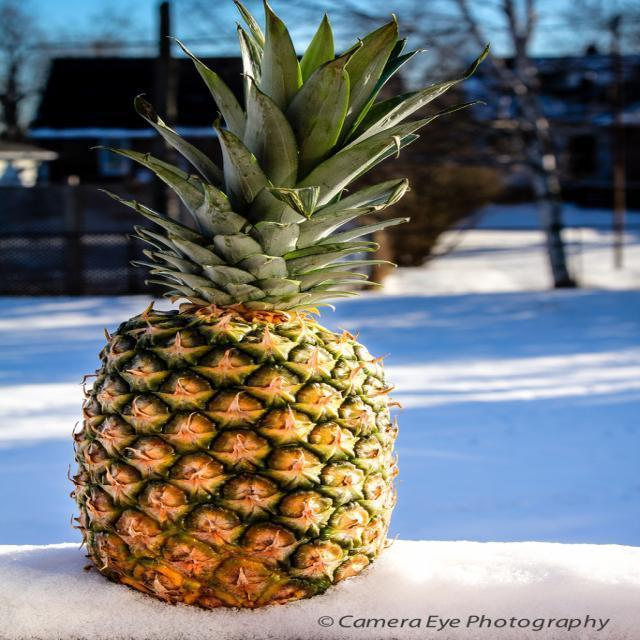Pineapple: (66, 0, 490, 612)
